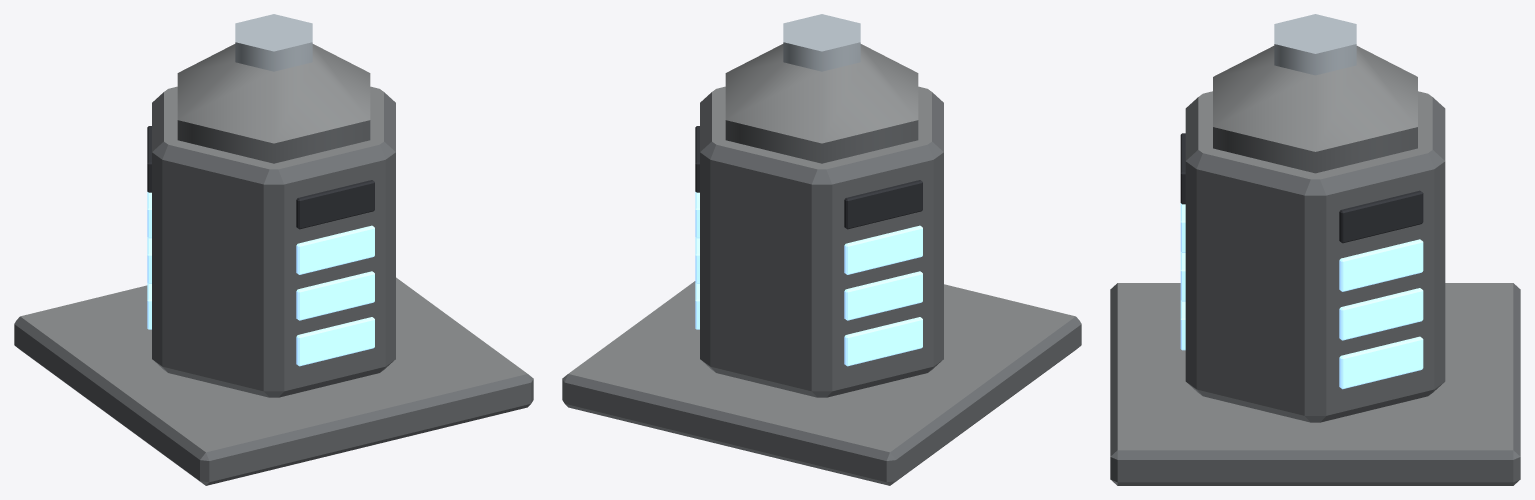
File: R4X_ChargeCapacity_LOD1.glb
The picture shows the model from 3 angles, left to right: view 1: azimuth 30°, elevation 25°; view 2: azimuth 150°, elevation 25°; view 3: azimuth 270°, elevation 25°; orthographic projection. The views are drawn at different scales.
Visible parts, largest first — view 1: R4X_ChargeCapacity_LOD1; view 2: R4X_ChargeCapacity_LOD1; view 3: R4X_ChargeCapacity_LOD1.
Part boxes in pixels (box(x1,y1,x2,y2)): R4X_ChargeCapacity_LOD1: box(14, 14, 533, 485); R4X_ChargeCapacity_LOD1: box(562, 14, 1081, 485); R4X_ChargeCapacity_LOD1: box(1110, 14, 1520, 485).
Size of the model in its own units: 0.52 by 0.515 by 0.52.
